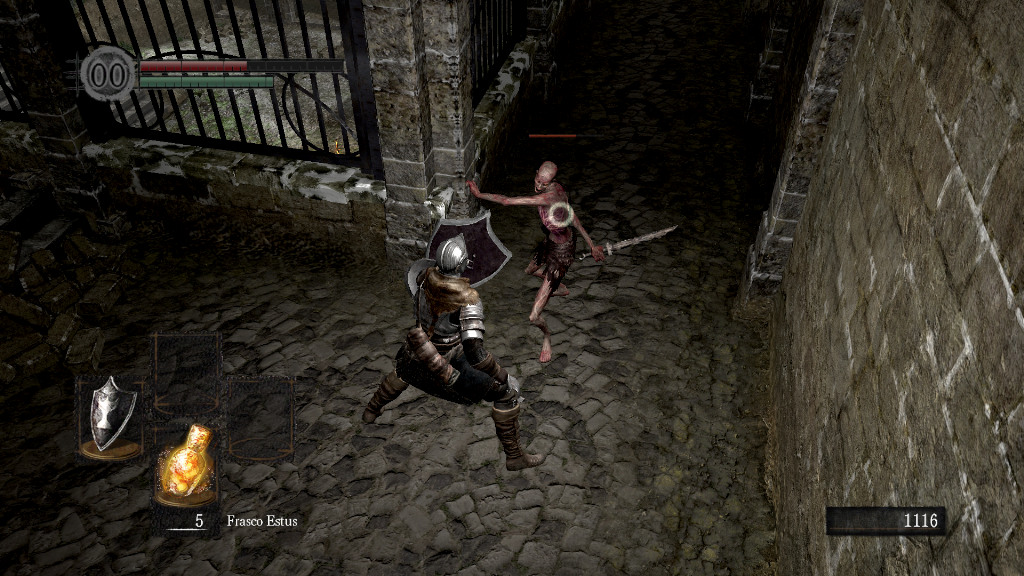health: (138, 58, 343, 71)
hollow: (464, 158, 608, 361)
humanity: (80, 45, 136, 102)
player: (358, 211, 549, 471)
souls: (825, 506, 945, 536)
stamina: (138, 74, 274, 88)
